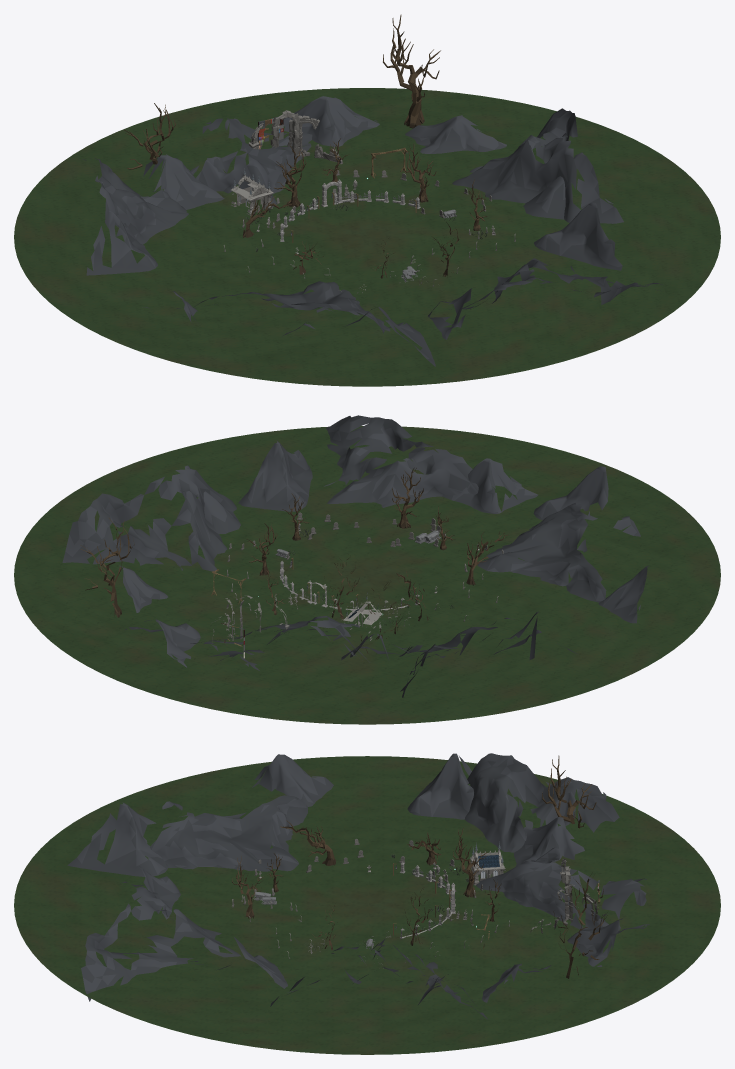
File: arena_graveyard.glb
The picture shows the model from 3 angles, top to bottom: view 1: azimuth 30°, elevation 25°; view 2: azimuth 150°, elevation 25°; view 3: azimuth 270°, elevation 25°; orthographic projection.
Parts seen in each view (by area): view 1: Floor, Arena_Atlas; view 2: Floor, Arena_Atlas; view 3: Floor, Arena_Atlas.
Boxes of the visible parts, box(x1,y1,x2,y2) form: Floor: box(14, 88, 720, 386); Arena_Atlas: box(82, 14, 663, 366); Floor: box(14, 426, 720, 724); Arena_Atlas: box(62, 415, 648, 697); Floor: box(14, 756, 720, 1054); Arena_Atlas: box(67, 753, 649, 1019).
Size of what is drawn, in the model's own units: 140 by 24.54 by 140.
Materials: 4 (3 with a texture image).
